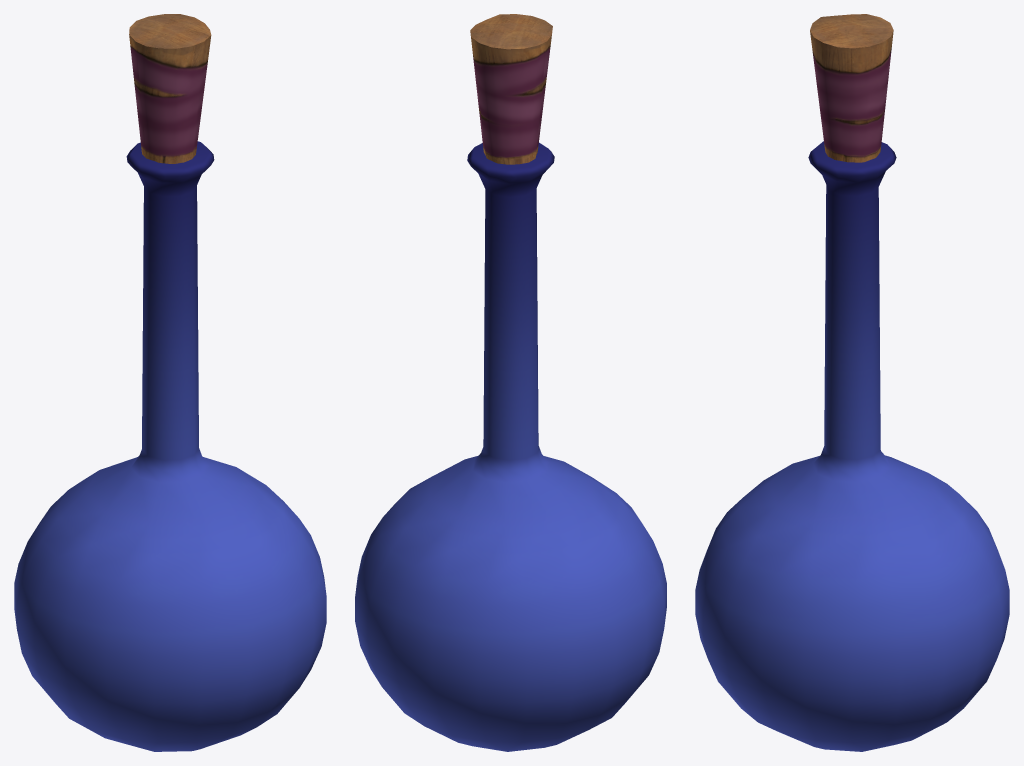
The model's file is SM_Potion_Props_Bottle_Huge_02_A.fbx.
The picture shows the model from 3 angles, left to right: view 1: azimuth 30°, elevation 25°; view 2: azimuth 150°, elevation 25°; view 3: azimuth 270°, elevation 25°; orthographic projection.
Parts seen in each view (by area): view 1: SM_Potion_Props_Bottle_Huge_02_A_LOD0; view 2: SM_Potion_Props_Bottle_Huge_02_A_LOD0; view 3: SM_Potion_Props_Bottle_Huge_02_A_LOD0.
Boxes of the visible parts, bbox=[...] form: SM_Potion_Props_Bottle_Huge_02_A_LOD0: bbox=[14, 14, 326, 751]; SM_Potion_Props_Bottle_Huge_02_A_LOD0: bbox=[355, 14, 666, 751]; SM_Potion_Props_Bottle_Huge_02_A_LOD0: bbox=[695, 14, 1009, 751].
Size of what is drawn, in the model's own units: 40.1 by 99.34 by 40.1.
